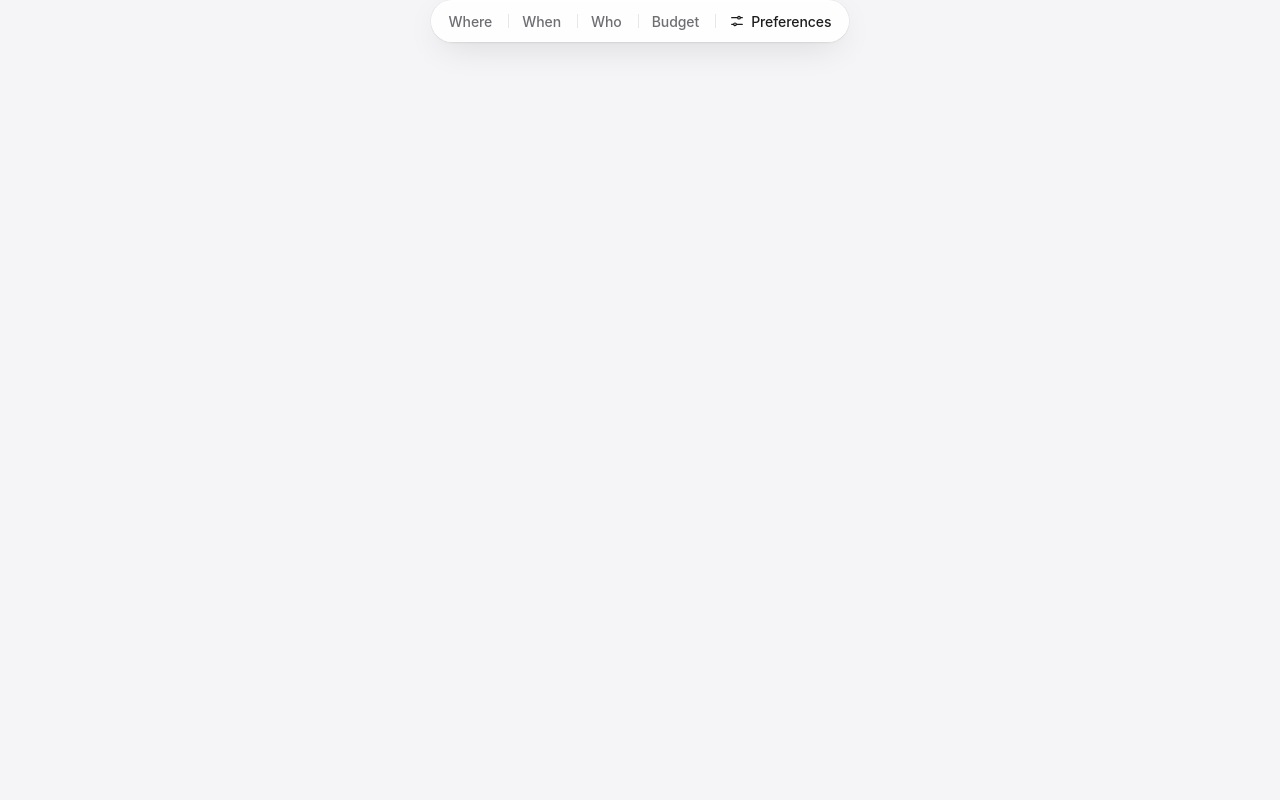
TripFactChips › stops adding preferences at the most a trip keeps
This screenshot has width=1280, height=800.
Click the button with aria-label "Open trip preferences". click: [780, 21]
box: top-left (715, 4), bottom-right (845, 38)
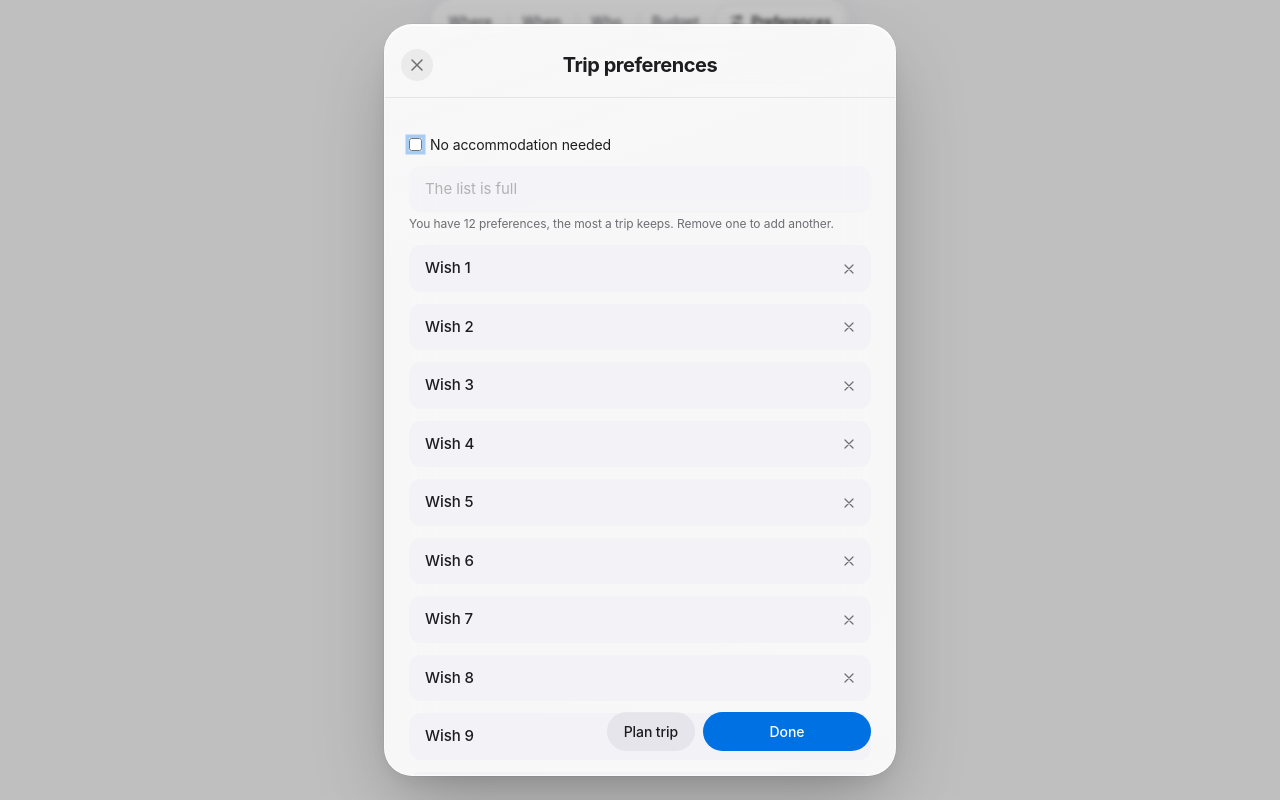
Check: the field named "Add a preference" is disabled, box top-left (409, 166), bottom-right (871, 211)
Check: the text "the most a trip keeps" is shown, box top-left (409, 216), bottom-right (834, 231)
